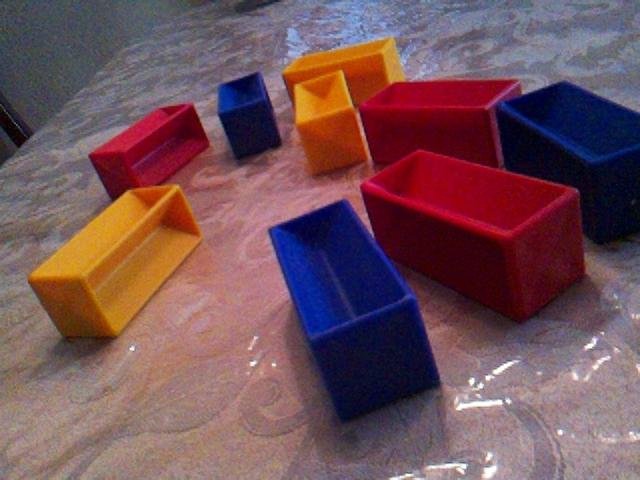blue: (266, 196, 443, 424), (495, 77, 640, 245), (216, 69, 283, 161)
red: (360, 147, 587, 323), (358, 76, 523, 170), (88, 100, 211, 200)
yellow: (27, 182, 204, 341), (281, 36, 407, 109), (292, 69, 371, 176)
